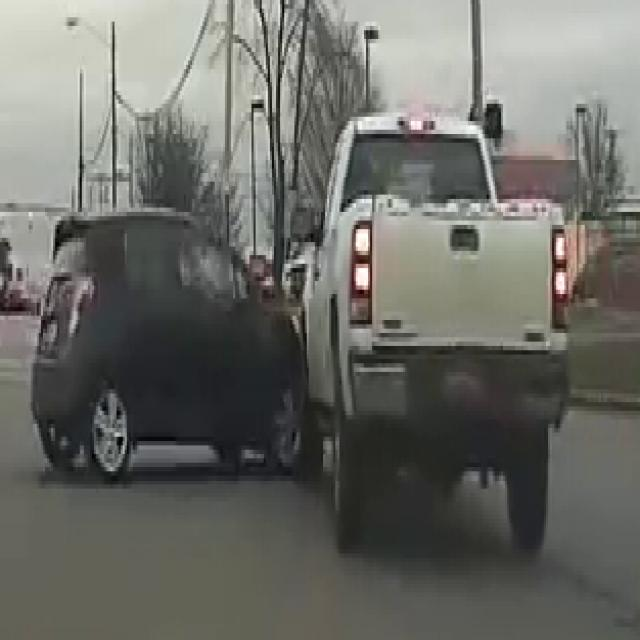accident: (149, 151, 385, 504)
